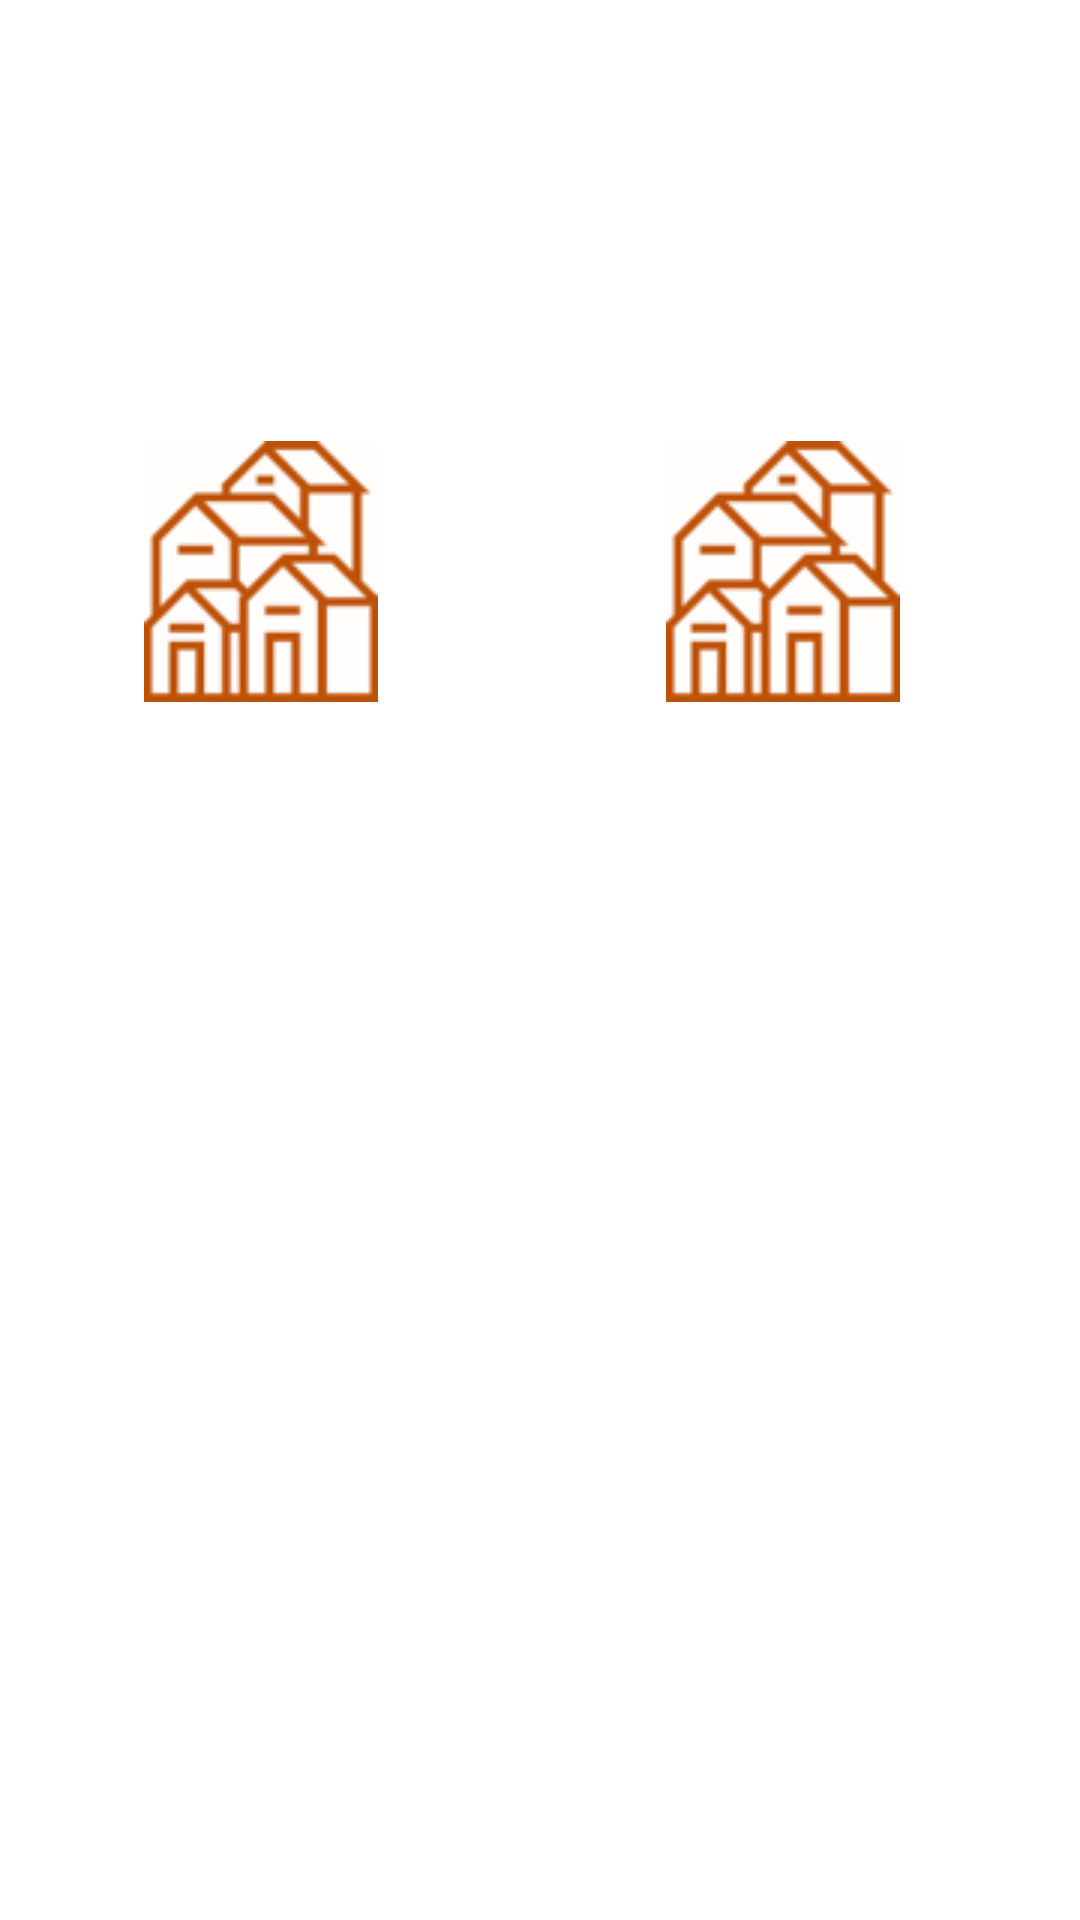

Where icons sit on this 1080 x 1920 app screen, as {"x1": x1, "y1": y1, "x2": x2, "y2": y2}:
bulid: {"x1": 144, "y1": 441, "x2": 378, "y2": 702}, {"x1": 666, "y1": 441, "x2": 900, "y2": 702}
